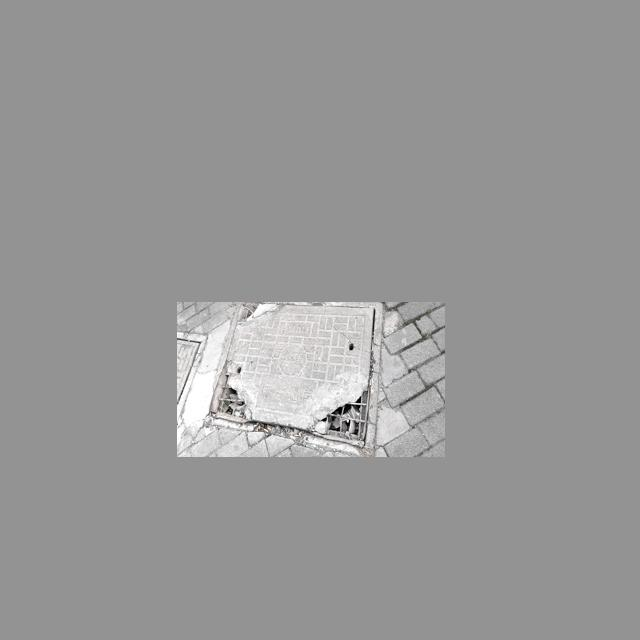broke: (215, 303, 373, 445)
